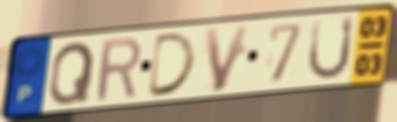7: (266, 21, 306, 86)
D: (144, 29, 199, 100)
Q: (46, 39, 97, 108)
R: (94, 34, 143, 105)
U: (305, 13, 357, 83)
V: (202, 22, 253, 95)
